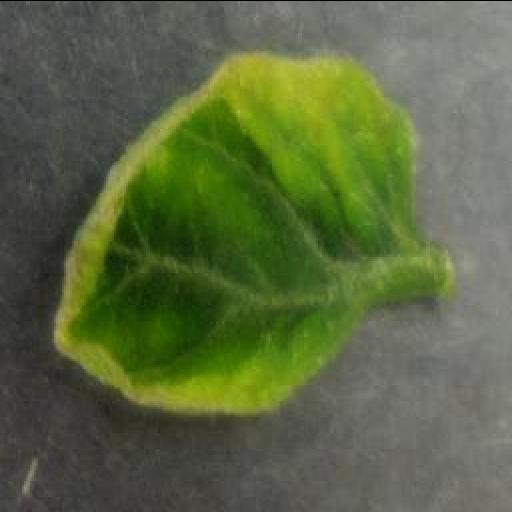disease_tomato: (48, 46, 422, 416)
